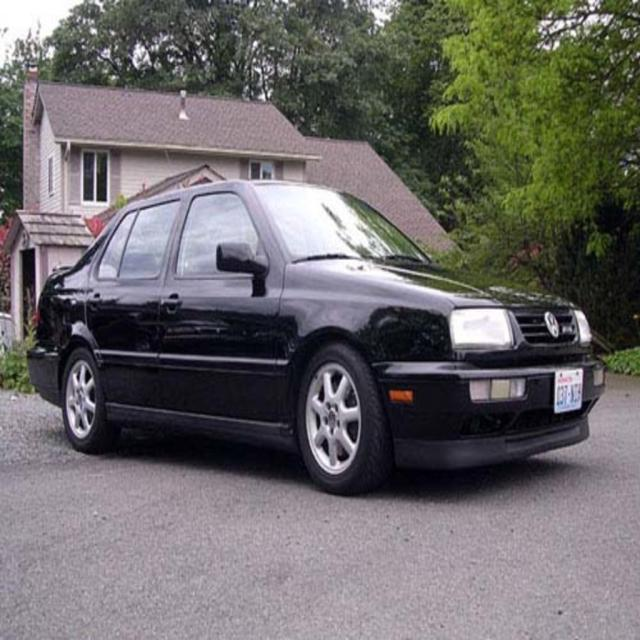car: (23, 180, 599, 490)
